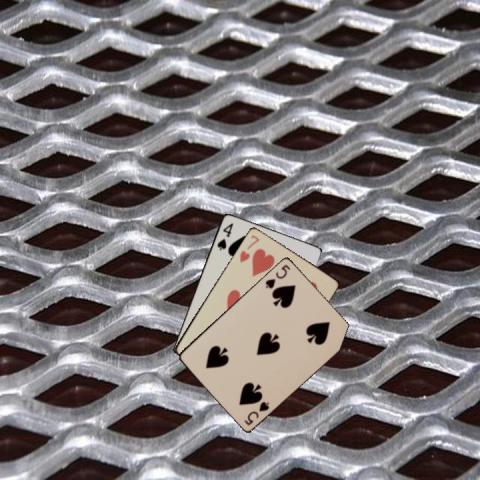4s: (214, 220, 235, 251)
5s: (262, 261, 292, 290), (241, 398, 271, 427)
7h: (236, 231, 260, 264)
